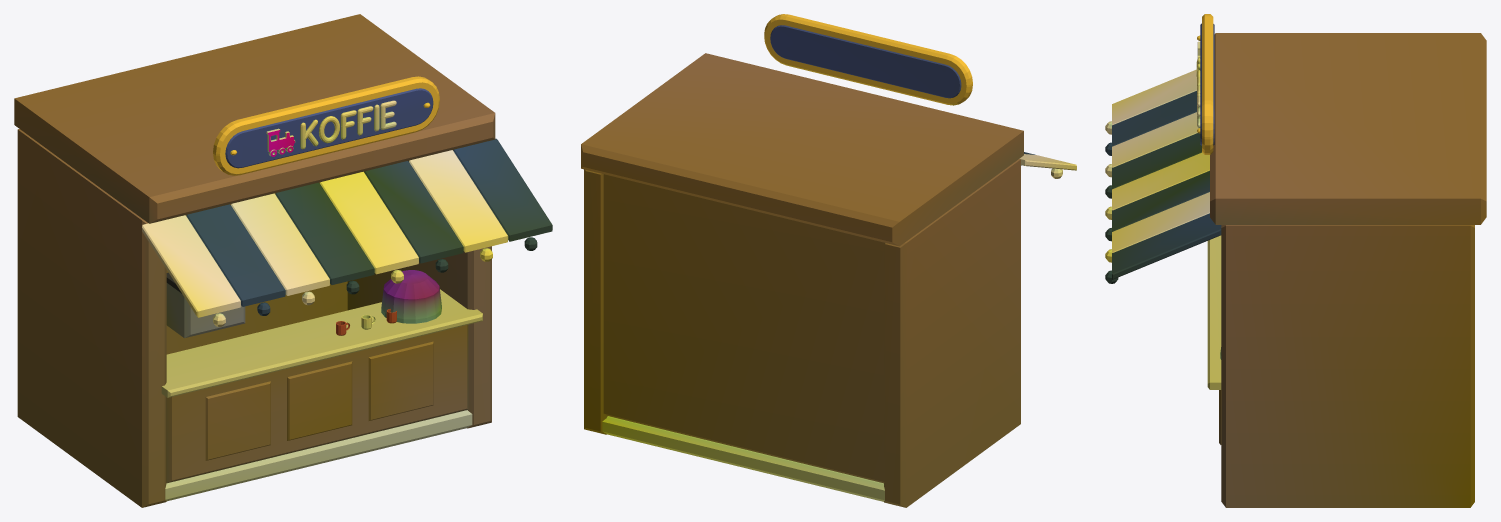
Rendered from GS_Kiosk.glb.
The picture shows the model from 3 angles, left to right: view 1: azimuth 30°, elevation 25°; view 2: azimuth 150°, elevation 25°; view 3: azimuth 270°, elevation 25°; orthographic projection. The views are drawn at different scales.
Parts seen in each view (by area): view 1: GS_Kiosk, Sign_Kiosk_Text; view 2: GS_Kiosk; view 3: GS_Kiosk.
Boxes of the visible parts, x1,y1,x2,y2 form: GS_Kiosk: (14, 14, 552, 507); Sign_Kiosk_Text: (300, 100, 396, 149); GS_Kiosk: (581, 14, 1076, 507); GS_Kiosk: (1105, 14, 1486, 507).
Bounding box in the file's own units: 3.5 × 3.5 × 3.31.
